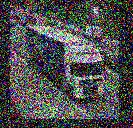truck: (25, 26, 106, 102), (82, 24, 103, 40)
